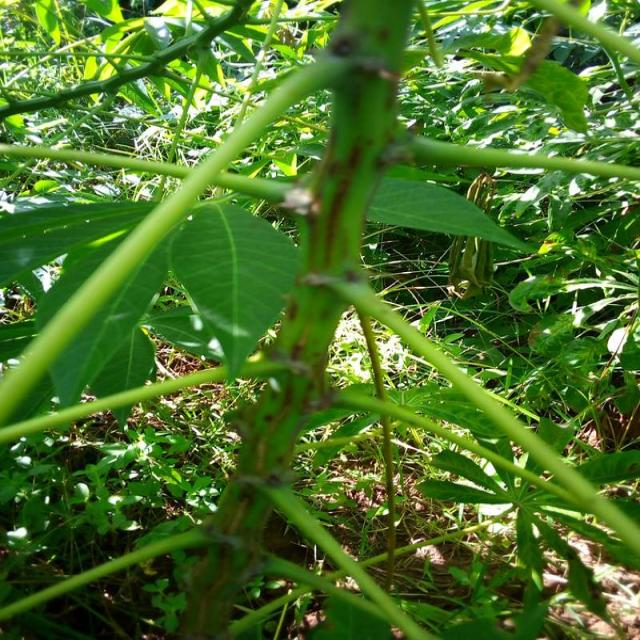cassava leaf: (2, 193, 300, 441), (166, 197, 300, 380), (364, 170, 534, 255)
